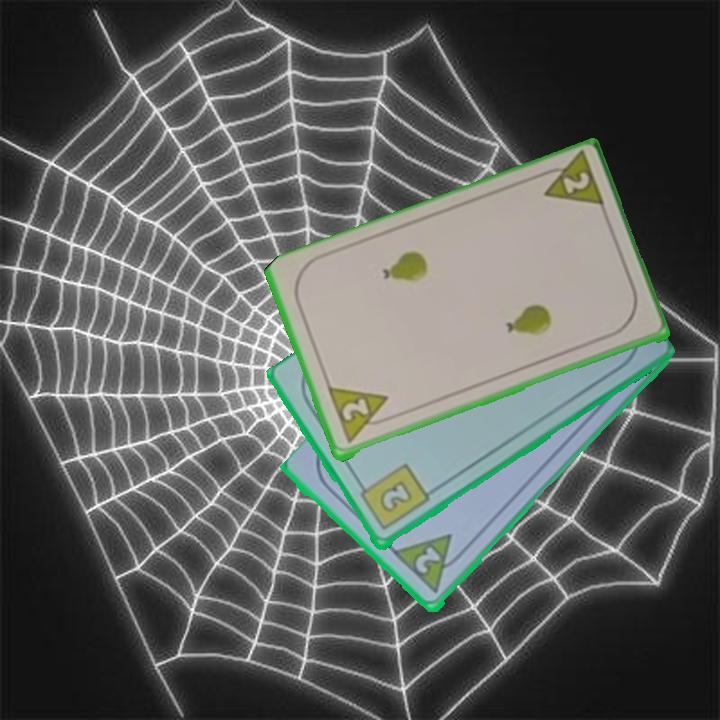2b: (354, 461, 432, 535)
2p: (532, 150, 608, 213), (324, 384, 396, 447), (411, 543, 444, 578)
